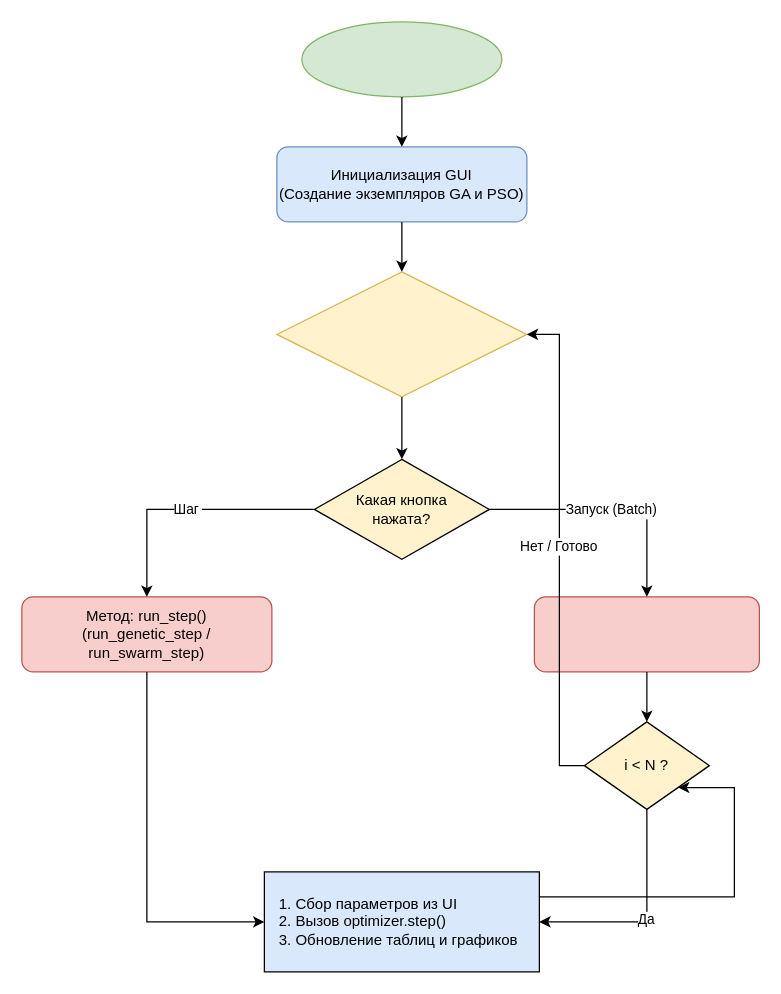
Image size: 781x994. Some labels were removed from this diagram. Here are the shapes that lost their labels. From the top down, the centre of each, then its label:
At (401,59): "Старт: Запуск main.py".
At (401,334): "Ожидание взаимодействия в главном цикле событий (Qt)".
At (646,634): "Метод: run_batch() Чтение N итераций".
